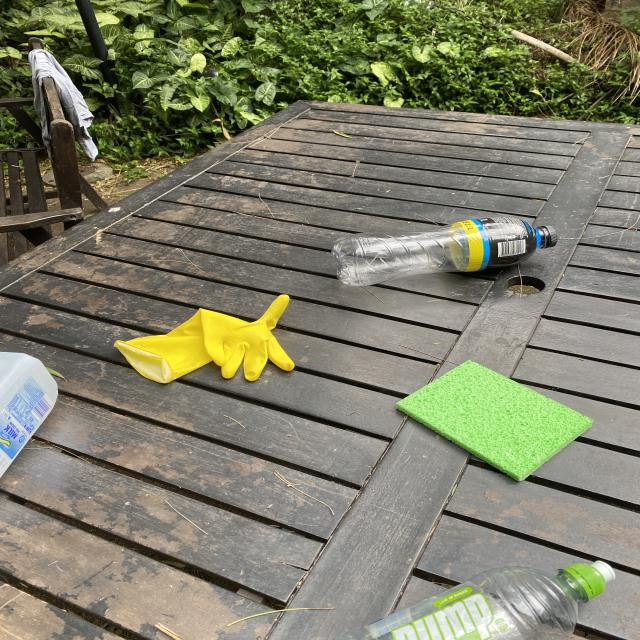bottle: (337, 559, 616, 640), (332, 217, 557, 287), (0, 351, 59, 478)
glove: (112, 293, 296, 384)
sponge: (397, 358, 593, 482)
